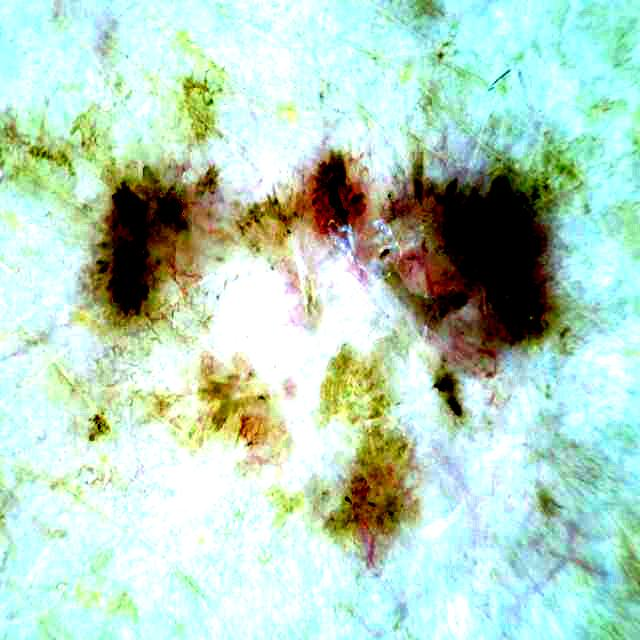BCC: (100, 152, 544, 355)
